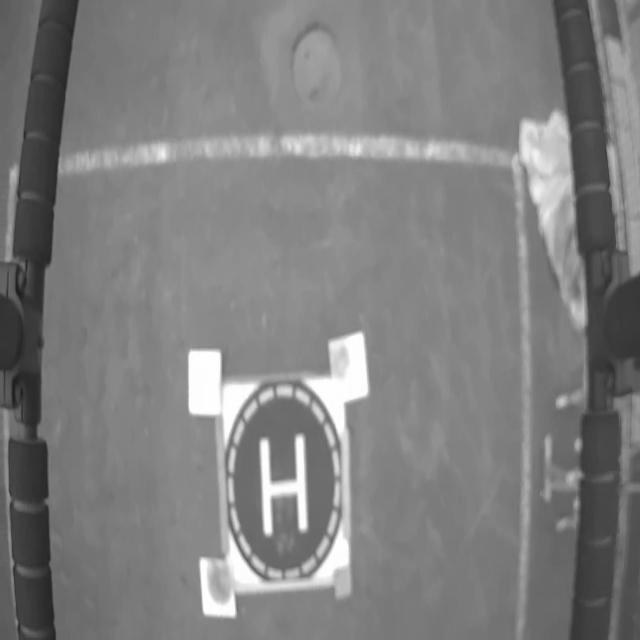Helipad: (260, 434, 309, 536)
